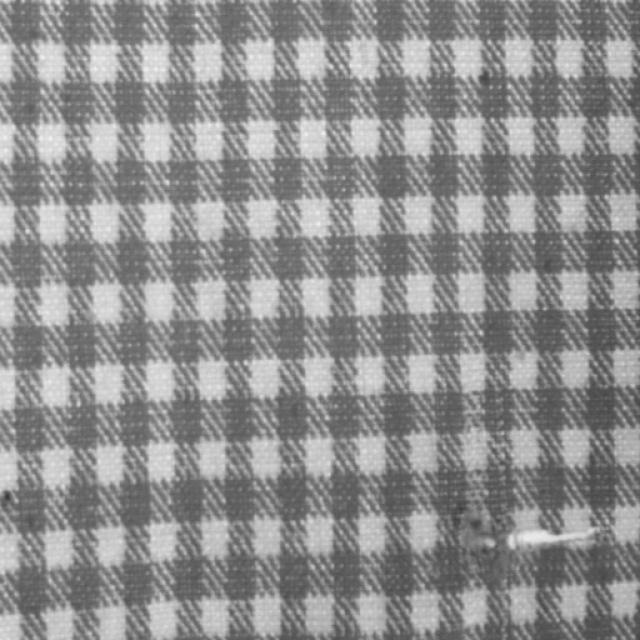Hole-Defect: (451, 501, 604, 574)
